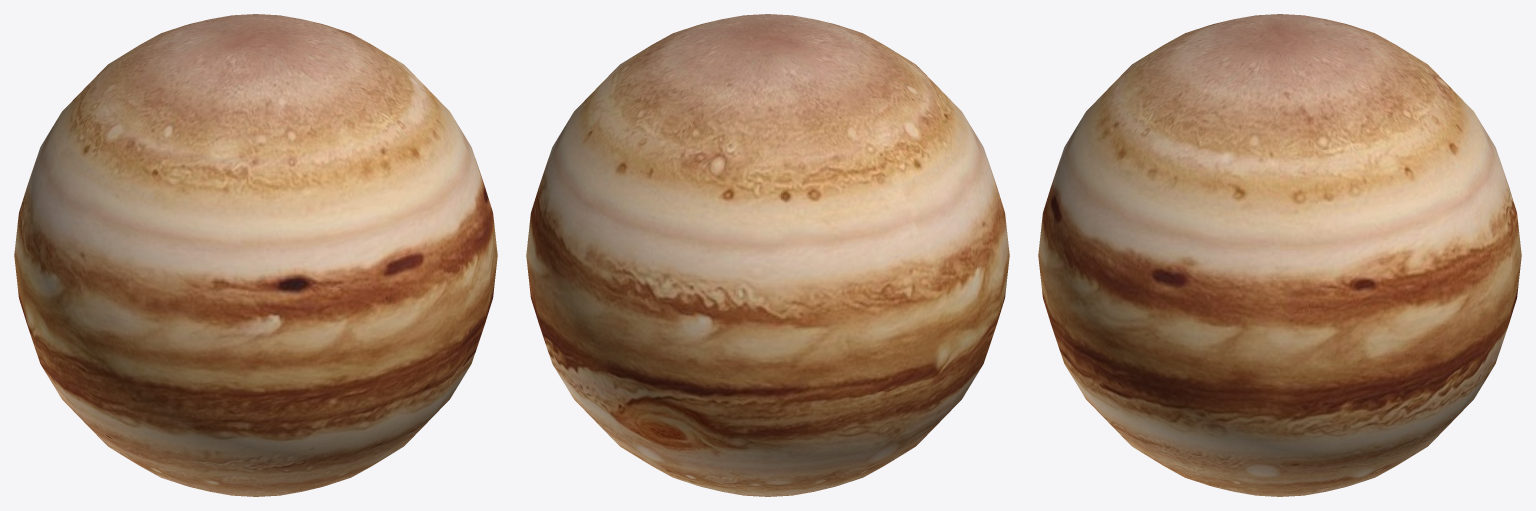
Rendered from jupiter.dae.
3 renders of one model, left to right at view 1: azimuth 30°, elevation 25°; view 2: azimuth 150°, elevation 25°; view 3: azimuth 270°, elevation 25°, orthographic.
Parts seen in each view (by area): view 1: Model; view 2: Model; view 3: Model.
Boxes of the visible parts, x1,y1,x2,y2 form: Model: (14, 14, 497, 496); Model: (526, 14, 1009, 496); Model: (1038, 14, 1521, 496).
Size of the model in its own units: 105 by 105 by 105.
Materials: 1 (1 with a texture image).
